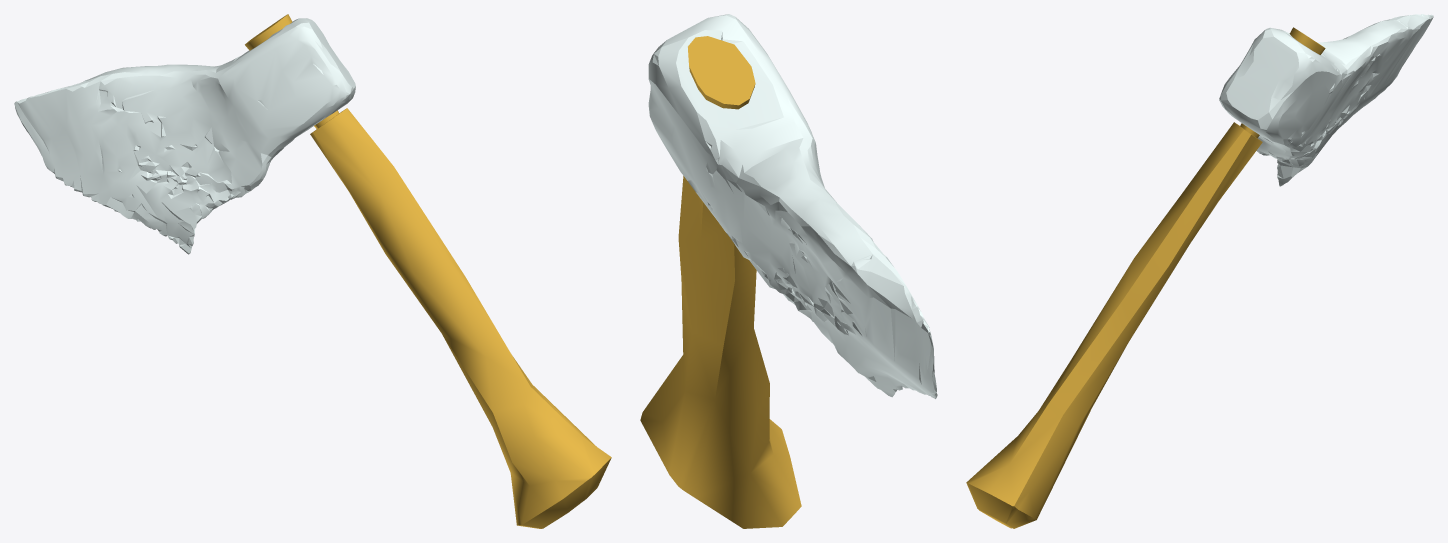
File: axe-iron-60.glb
The picture shows the model from 3 angles, left to right: view 1: azimuth 30°, elevation 25°; view 2: azimuth 150°, elevation 25°; view 3: azimuth 270°, elevation 25°; orthographic projection. The views are drawn at different scales.
Visible parts, largest first — view 1: iron-axe-head, iron-axe; view 2: iron-axe-head, iron-axe; view 3: iron-axe, iron-axe-head.
Part boxes in pixels (x1=…): iron-axe-head: x1=14, y1=18, x2=355, y2=254; iron-axe: x1=245, y1=14, x2=611, y2=528; iron-axe-head: x1=648, y1=14, x2=937, y2=398; iron-axe: x1=640, y1=36, x2=801, y2=528; iron-axe: x1=966, y1=27, x2=1325, y2=528; iron-axe-head: x1=1219, y1=14, x2=1433, y2=186.
Bounding box in the file's own units: 0.7979 × 0.8653 × 0.8262.
